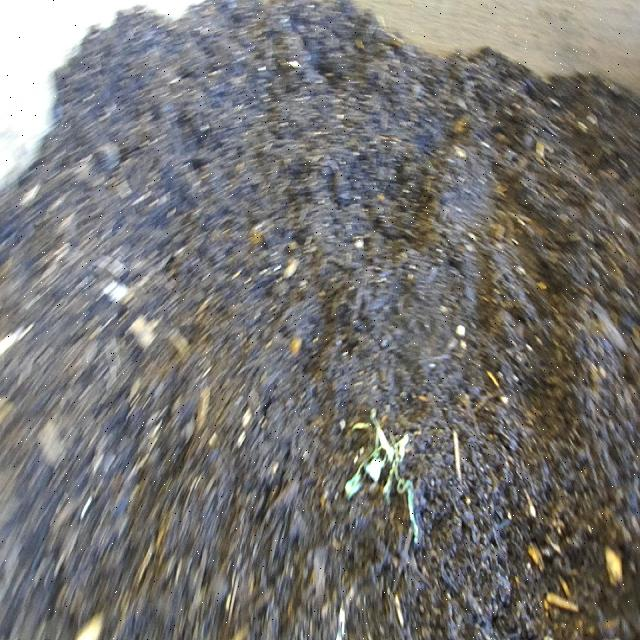Unhealthy: (340, 394, 430, 560)
